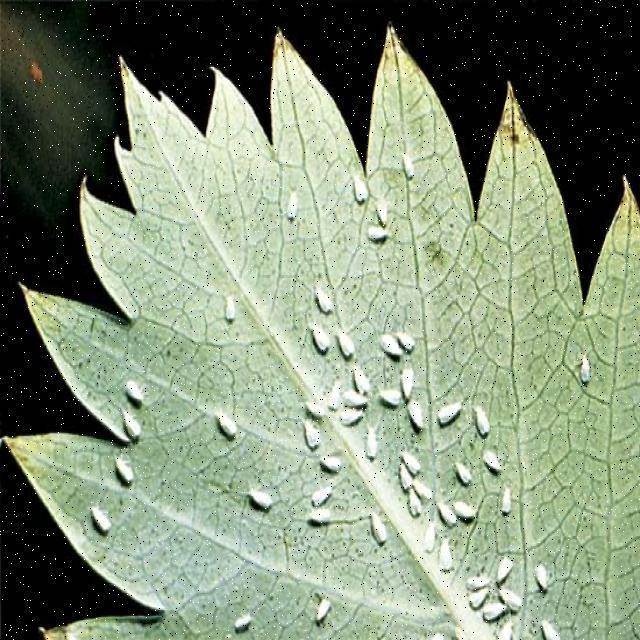Whiteflies: (471, 546, 524, 632), (200, 400, 249, 457), (104, 451, 151, 503), (237, 482, 287, 524), (423, 523, 456, 586), (80, 501, 124, 545), (215, 288, 251, 338), (116, 373, 159, 413), (304, 310, 335, 362), (303, 587, 343, 627), (331, 320, 361, 373), (359, 224, 402, 258), (310, 279, 344, 322), (527, 561, 560, 604), (569, 354, 602, 396), (118, 410, 151, 450), (391, 365, 419, 411), (393, 145, 425, 185), (282, 181, 307, 230), (433, 392, 462, 434), (347, 168, 375, 211), (370, 382, 405, 416), (439, 493, 461, 547), (304, 502, 336, 539), (361, 424, 388, 467), (360, 519, 393, 553), (296, 420, 322, 463), (472, 403, 498, 446), (398, 444, 430, 477), (399, 317, 423, 361), (496, 491, 524, 528), (307, 478, 339, 510), (349, 356, 372, 400), (531, 612, 565, 640), (227, 614, 263, 640), (377, 331, 401, 368), (409, 476, 438, 506), (370, 202, 396, 235), (455, 452, 478, 489), (342, 390, 378, 413), (391, 465, 416, 497), (457, 497, 482, 529), (318, 455, 351, 479), (327, 377, 349, 413), (404, 490, 425, 526), (478, 450, 506, 477), (301, 395, 332, 419), (343, 406, 369, 434)
